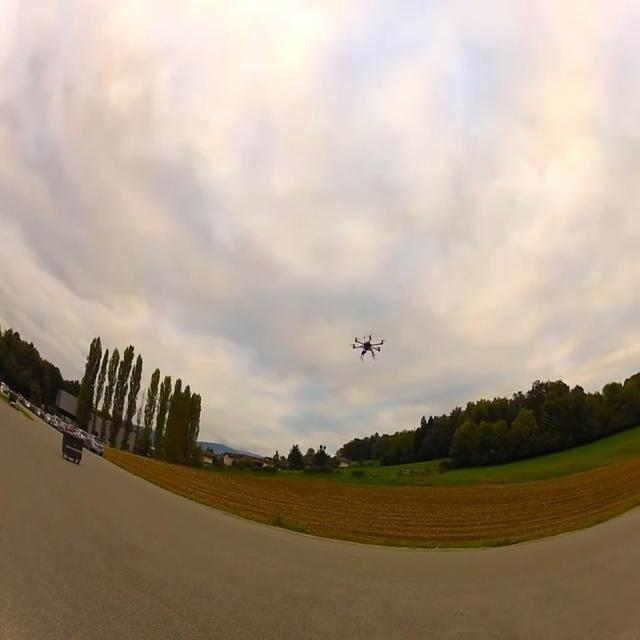drone: (352, 333, 386, 362)
